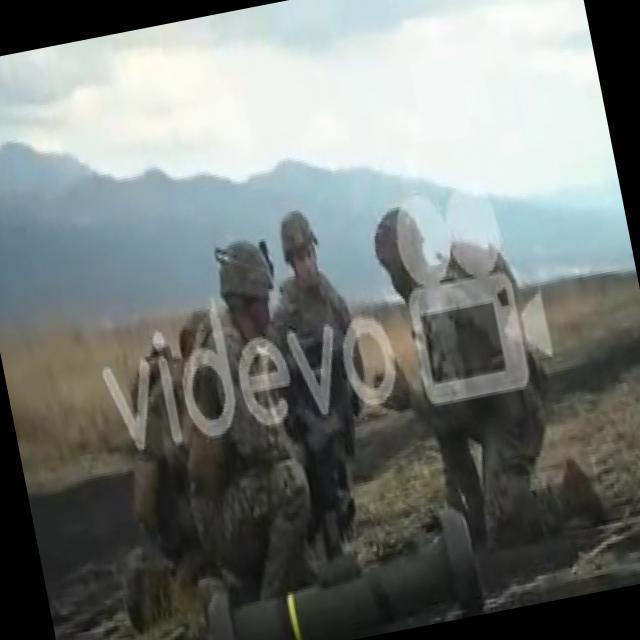rocket: (193, 504, 485, 640)
